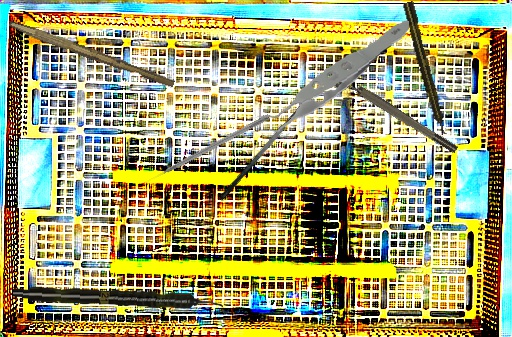Fixation Ring: (330, 67, 460, 161)
Handpiece: (401, 0, 450, 137), (12, 283, 224, 314)
Hook Surgical: (142, 113, 271, 186)
Scalpel Handle: (6, 19, 177, 90)
Spatula Surgical: (210, 89, 314, 202)
Tissue Forceps: (241, 17, 418, 136)
